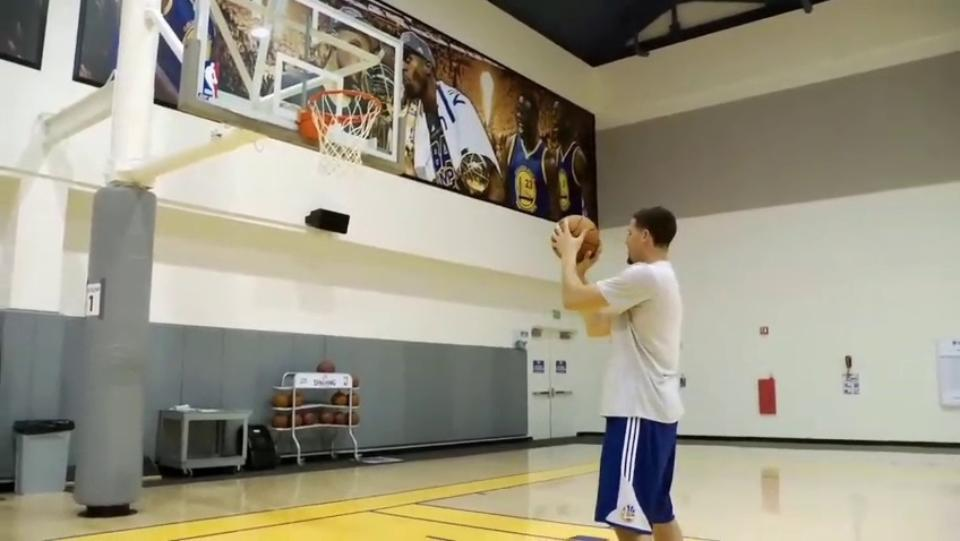hoop: (289, 88, 393, 137)
